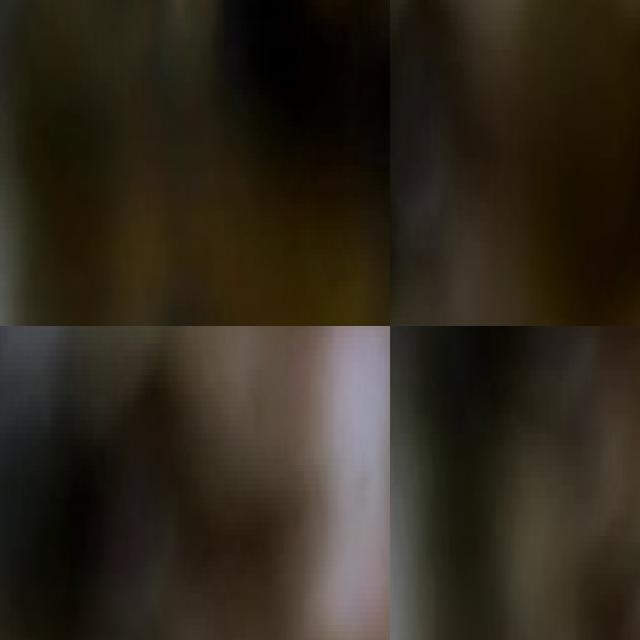fish: (0, 0, 390, 326), (0, 465, 347, 640)
